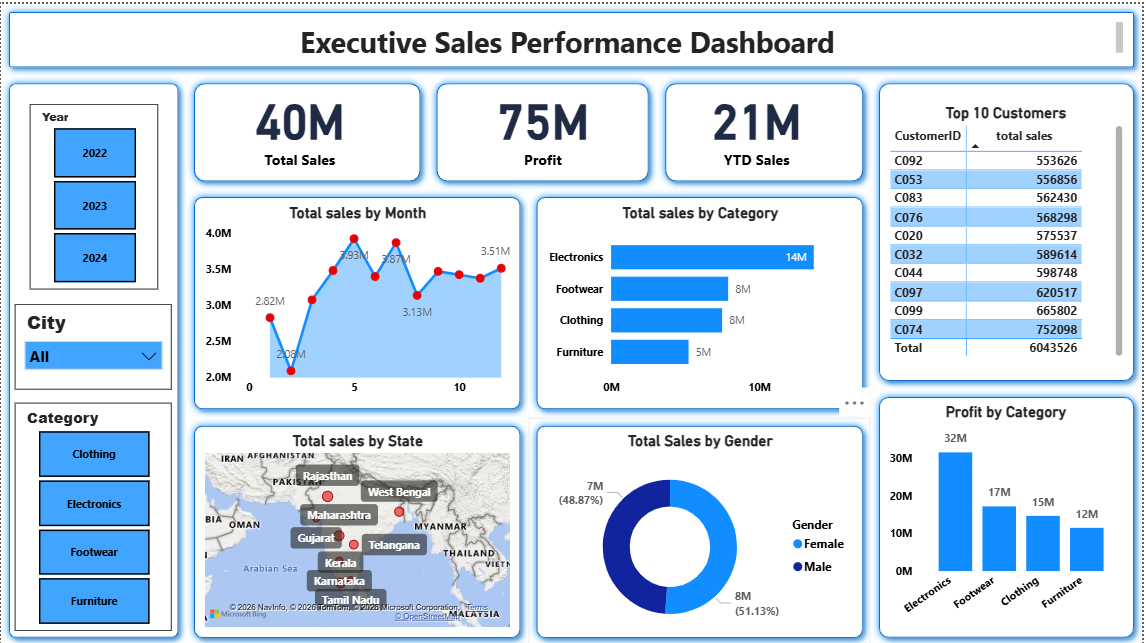

What the dashboard file says about the page in this screenshot:
{"tool":"powerbi","page":{"name":"Sales Dashboard","canvas":[1280,720],"ordinal":0},"visuals":[{"type":"shape","box":[208,80,272,128],"z":0},{"type":"card","fields":{"Values":["DAXMeasures.total sales"]},"box":[208,80,256,112],"z":1000},{"type":"shape","box":[208,208,384,256],"z":2000},{"type":"areaChart","title":"Total sales by Month","fields":{"Category":["Date.Month"],"Y":["DAXMeasures.total sales"]},"box":[224,224,352,224],"z":3000},{"type":"shape","box":[592,208,384,256],"z":4000},{"type":"shape","box":[592,464,384,256],"z":5000},{"type":"shape","box":[208,464,384,256],"z":6000},{"type":"clusteredBarChart","title":"Total sales by Category","fields":{"Y":["DAXMeasures.total sales"],"Category":["Products.Category"]},"box":[608,224,352,224],"z":7000},{"type":"map","title":"Total sales by State","fields":{"Category":["Customers.State"],"Size":["DAXMeasures.total sales"]},"box":[224,480,352,224],"z":8000},{"type":"shape","box":[976,80,304,352],"z":9000},{"type":"shape","box":[480,80,256,128],"z":10000},{"type":"shape","box":[736,80,240,128],"z":11000},{"type":"card","fields":{"Values":["DAXMeasures.profit"]},"box":[464,80,288,112],"z":12000},{"type":"card","fields":{"Values":["DAXMeasures.ytd sales"]},"box":[704,80,288,112],"z":13000},{"type":"tableEx","title":"Top 10 Customers","fields":{"Values":["Customers.CustomerID","DAXMeasures.total sales"]},"box":[992,112,272,288],"z":14000},{"type":"shape","box":[976,432,304,288],"z":15000},{"type":"donutChart","title":"Total Sales by Gender","fields":{"Category":["Customers.Gender"],"Y":["DAXMeasures.total sales"]},"box":[608,480,352,240],"z":16000},{"type":"lineStackedColumnComboChart","title":"Profit by Category","fields":{"Category":["Products.Category"],"Y":["DAXMeasures.profit"]},"box":[992,448,272,256],"z":17000},{"type":"shape","box":[0,80,208,640],"z":18000},{"type":"shape","box":[0,0,1280,80],"z":19000},{"type":"slicer","fields":{"Values":["Date.Year"]},"box":[32,112,144,208],"z":20000},{"type":"slicer","fields":{"Values":["Customers.City"]},"box":[16,336,176,96],"z":21000},{"type":"slicer","fields":{"Values":["Products.Category"]},"box":[16,448,176,256],"z":22000},{"type":"textbox","box":[16,16,1248,48],"z":23000}]}

Visuals, with their boxes in screenshot pixels (x1, y1, x2, y2), scaled from the page's 1280x720 canvas onto the 1146x643 screenshot:
shape: box=[186, 71, 430, 186]
card - DAXMeasures.total sales: box=[186, 71, 415, 171]
shape: box=[186, 186, 530, 414]
"Total sales by Month" areaChart: box=[201, 200, 516, 400]
shape: box=[530, 186, 874, 414]
shape: box=[530, 414, 874, 642]
shape: box=[186, 414, 530, 642]
"Total sales by Category" clusteredBarChart: box=[544, 200, 860, 400]
"Total sales by State" map: box=[201, 429, 516, 629]
shape: box=[874, 71, 1145, 386]
shape: box=[430, 71, 659, 186]
shape: box=[659, 71, 874, 186]
card - DAXMeasures.profit: box=[415, 71, 673, 171]
card - DAXMeasures.ytd sales: box=[630, 71, 888, 171]
"Top 10 Customers" tableEx: box=[888, 100, 1132, 357]
shape: box=[874, 386, 1145, 642]
"Total Sales by Gender" donutChart: box=[544, 429, 860, 642]
"Profit by Category" lineStackedColumnComboChart: box=[888, 400, 1132, 629]
shape: box=[0, 71, 186, 642]
shape: box=[0, 0, 1145, 71]
slicer - Date.Year: box=[29, 100, 158, 286]
slicer - Customers.City: box=[14, 300, 172, 386]
slicer - Products.Category: box=[14, 400, 172, 629]
textbox: box=[14, 14, 1132, 57]
